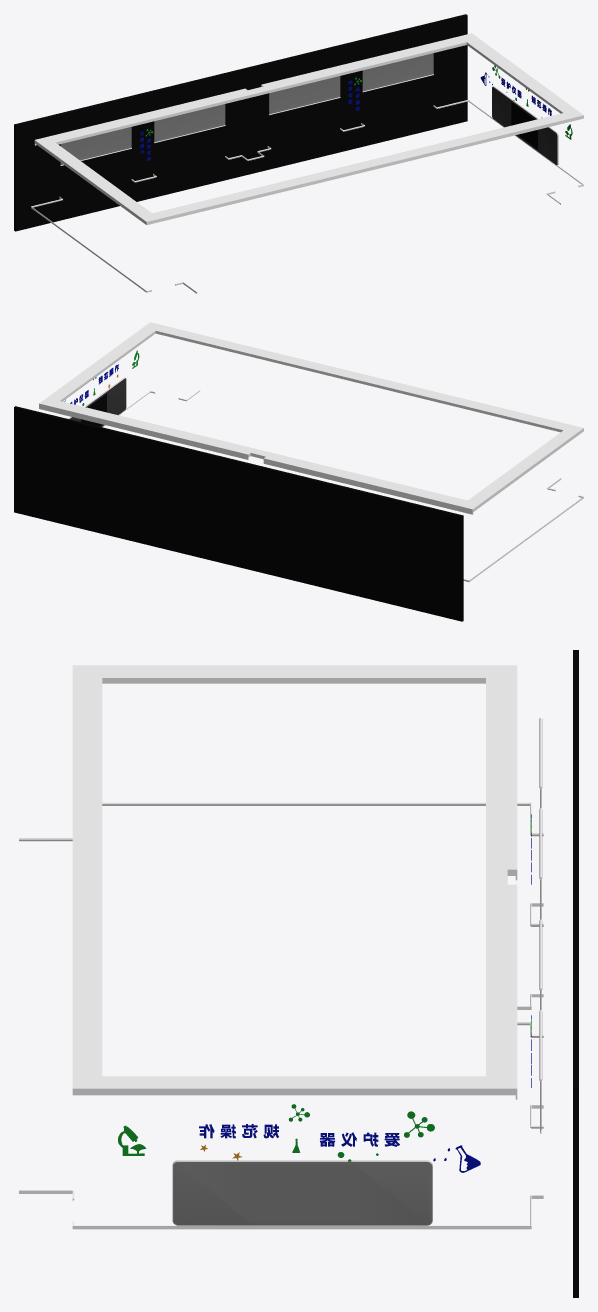
3 views of the same model, one above another, from view 1: azimuth 30°, elevation 25°; view 2: azimuth 150°, elevation 25°; view 3: azimuth 270°, elevation 25° (orthographic). The views are drawn at different scales.
Visible parts, largest first — view 1: Obj3d66-1109493-976-398, Obj3d66-1109493-679-984, Obj3d66-1109493-667-196, Obj3d66-1109493-981-874, Obj3d66-1109493-977-391, Obj3d66-1109493-984-959, Obj3d66-1109493-987-352, Obj3d66-1109493-677-756, Obj3d66-1109493-680-90, Obj3d66-1109493-678-934; view 2: Obj3d66-1109493-976-398, Obj3d66-1109493-679-984, Obj3d66-1109493-678-934, Obj3d66-1109493-667-196, Obj3d66-1109493-677-756; view 3: Obj3d66-1109493-679-984, Obj3d66-1109493-667-196, Obj3d66-1109493-677-756, Obj3d66-1109493-976-398, Obj3d66-1109493-678-934, Obj3d66-1109493-680-90, Obj3d66-1109493-671-477.
Boxes of the visible parts, x1,y1,x2,y2 form: Obj3d66-1109493-976-398: (14,14,467,231); Obj3d66-1109493-679-984: (35,33,583,224); Obj3d66-1109493-667-196: (492,86,558,165); Obj3d66-1109493-981-874: (269,76,340,114); Obj3d66-1109493-977-391: (362,53,433,91); Obj3d66-1109493-984-959: (154,104,225,142); Obj3d66-1109493-987-352: (60,127,131,164); Obj3d66-1109493-677-756: (31,100,583,293); Obj3d66-1109493-680-90: (35,45,583,224); Obj3d66-1109493-678-934: (34,33,471,145); Obj3d66-1109493-976-398: (14,406,463,621); Obj3d66-1109493-679-984: (40,322,583,511); Obj3d66-1109493-678-934: (39,403,473,514); Obj3d66-1109493-667-196: (68,377,126,426); Obj3d66-1109493-677-756: (102,390,583,581); Obj3d66-1109493-679-984: (72,665,515,1094); Obj3d66-1109493-667-196: (172,1160,432,1225); Obj3d66-1109493-677-756: (19,802,543,1229); Obj3d66-1109493-976-398: (573,650,578,1297); Obj3d66-1109493-678-934: (515,665,517,1099); Obj3d66-1109493-680-90: (72,683,515,1095); Obj3d66-1109493-671-477: (118,1104,434,1161).
Bounding box in the file's own units: 17366 × 3893 × 9395.
